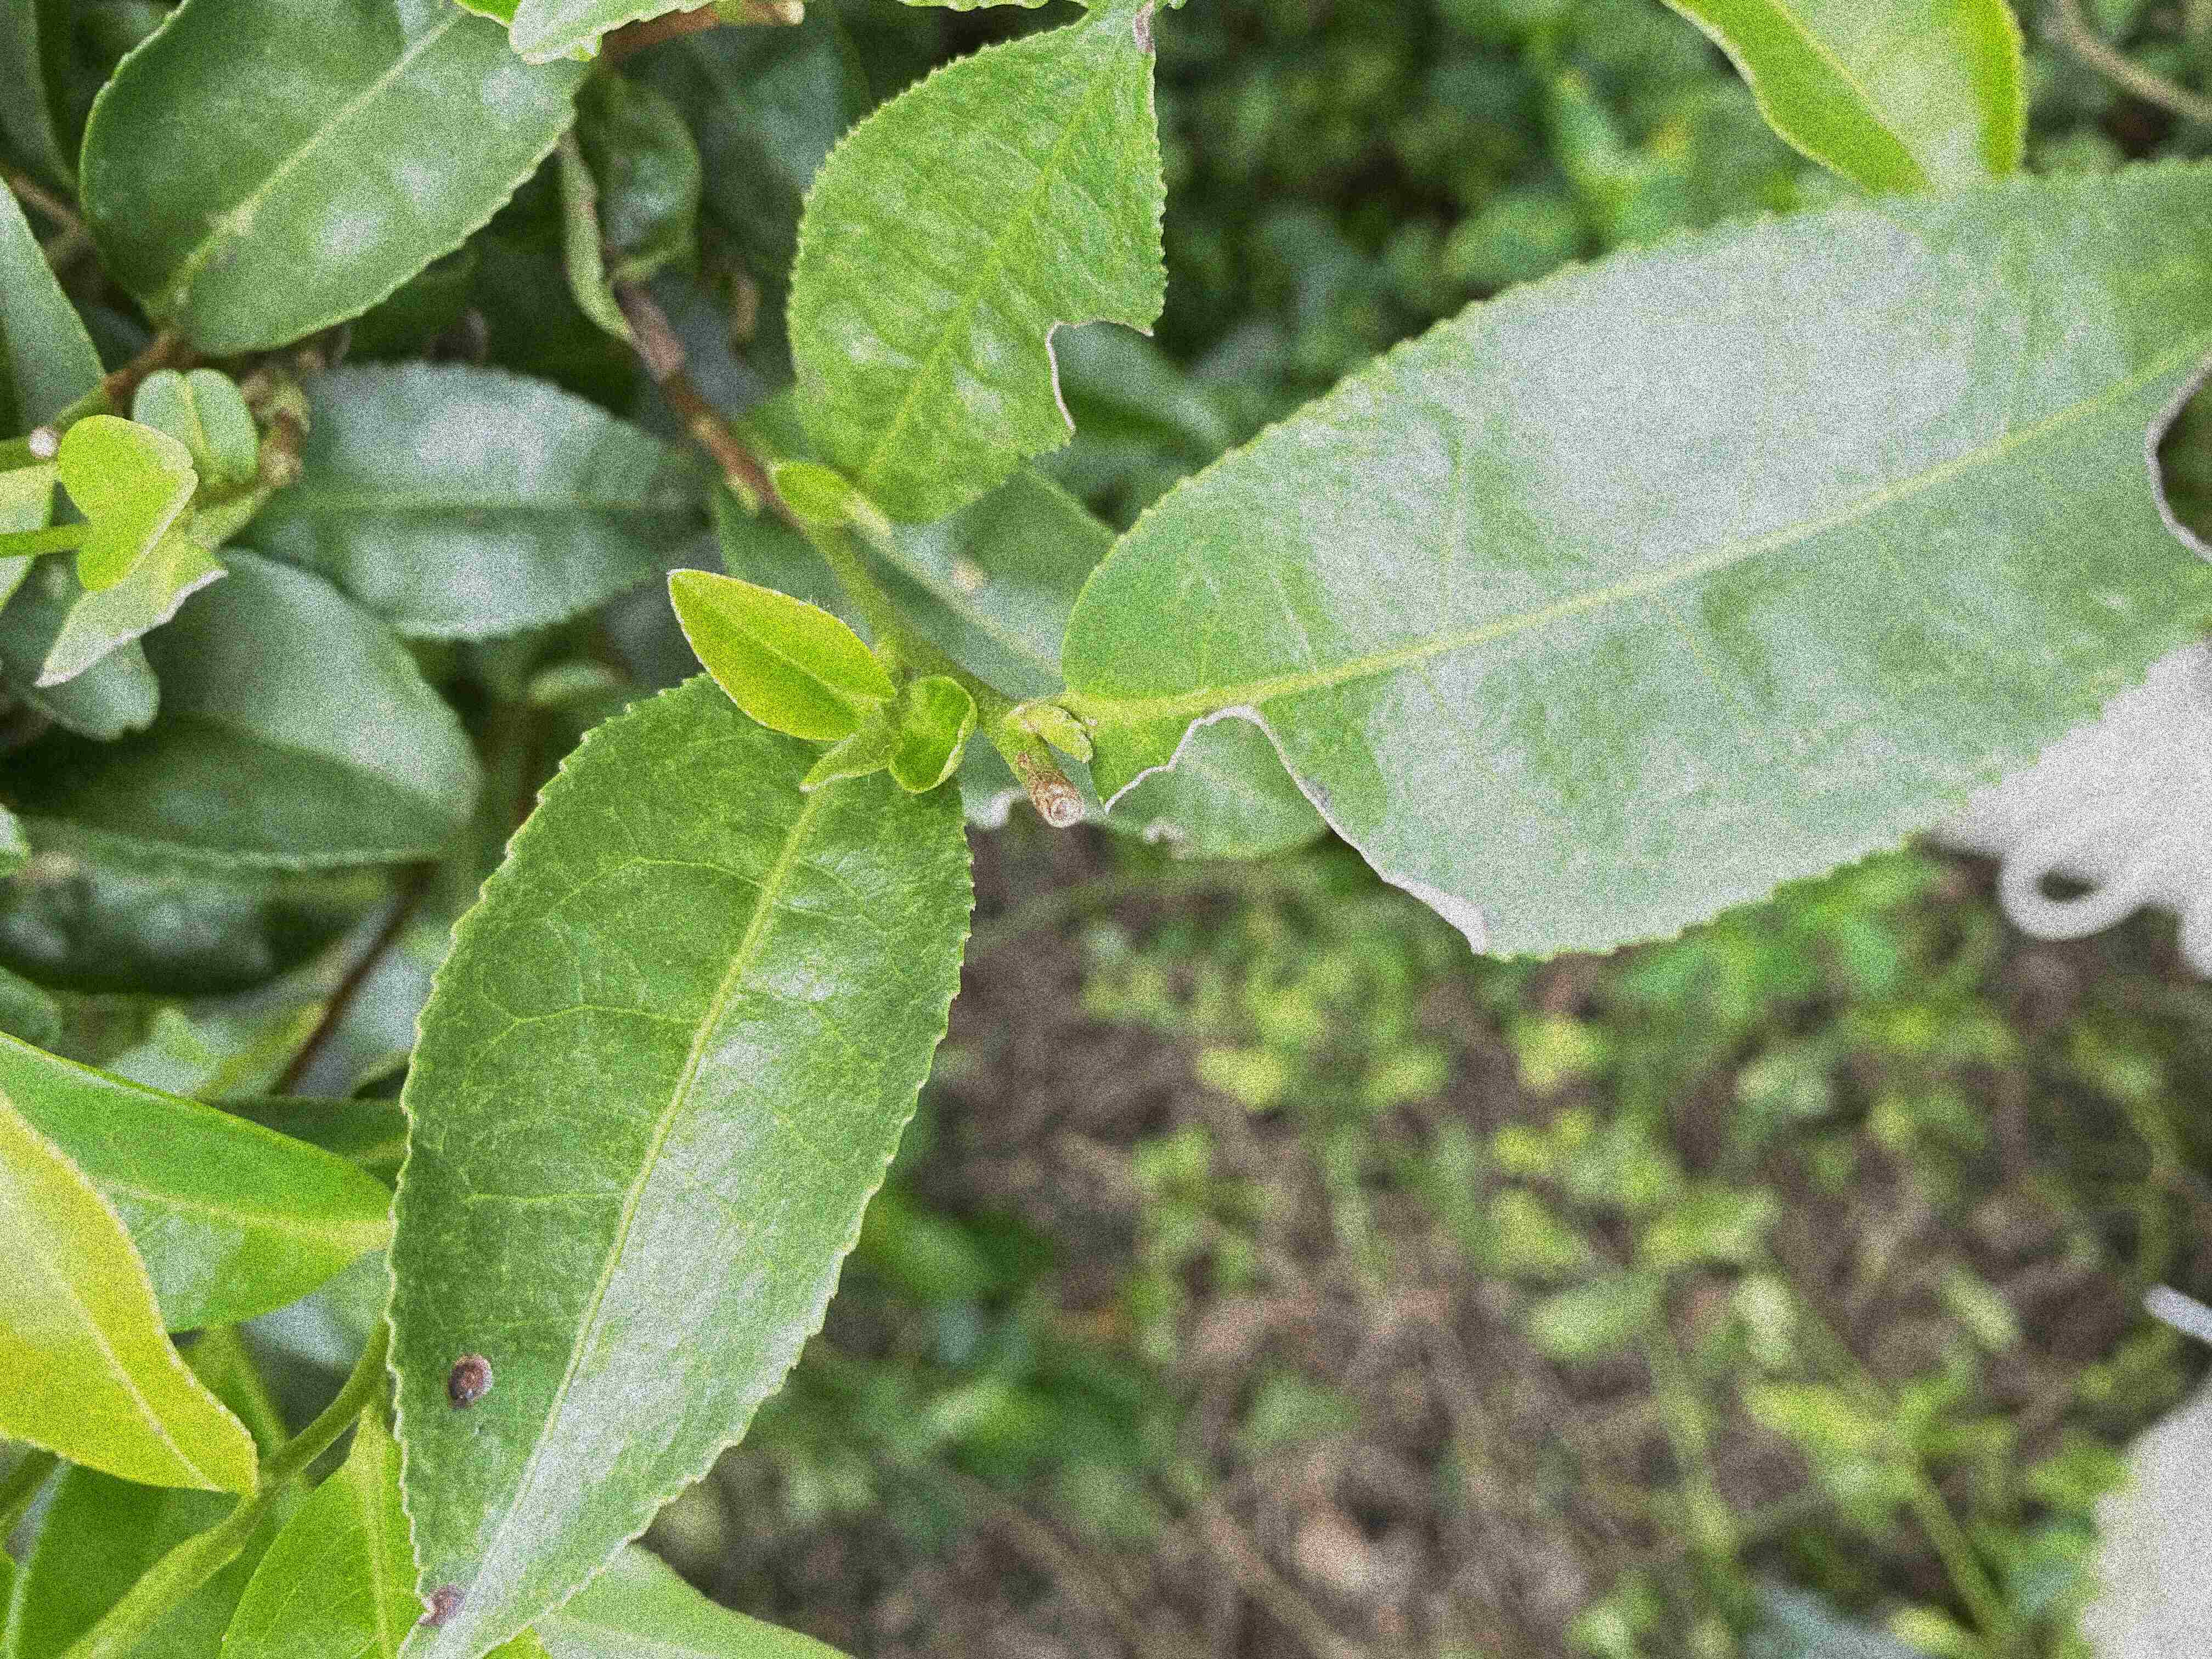chihuo_high: (1064, 166, 2210, 964)
chihuo_low: (787, 10, 1169, 528)
healthy: (665, 568, 894, 742), (54, 410, 199, 592)
tanju_low: (383, 673, 977, 1656)
